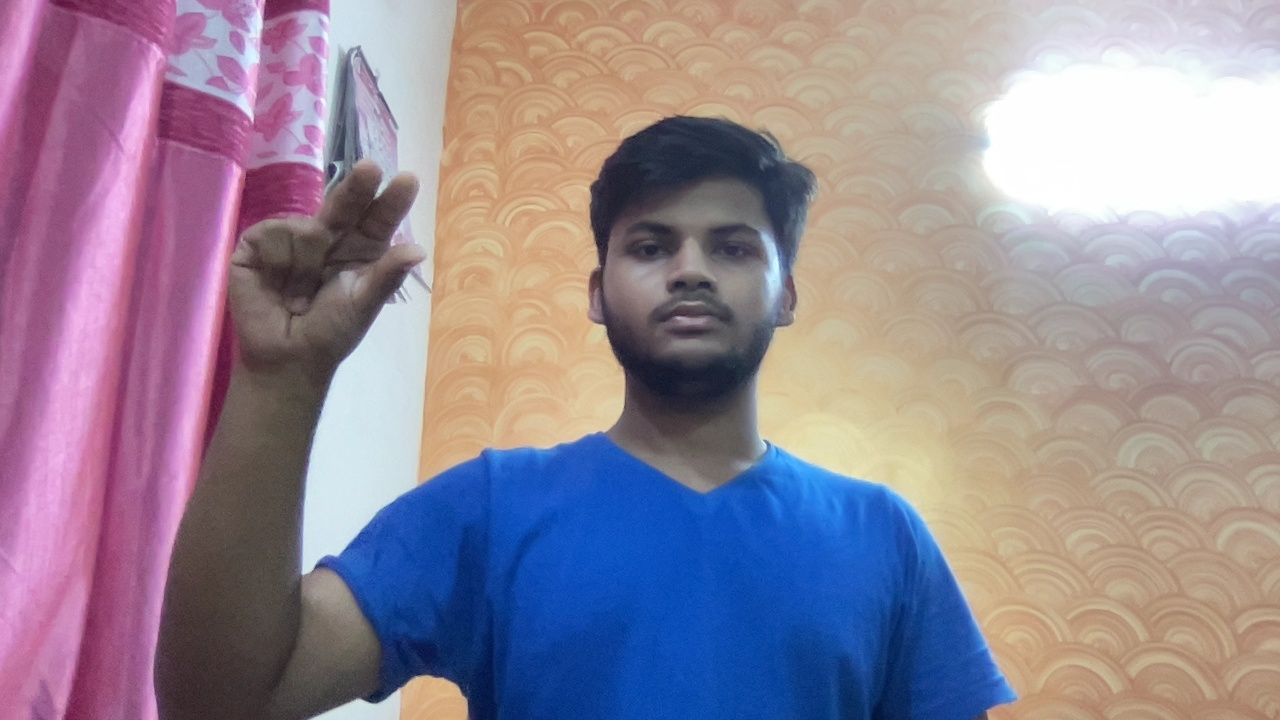no: (192, 155, 463, 428)
